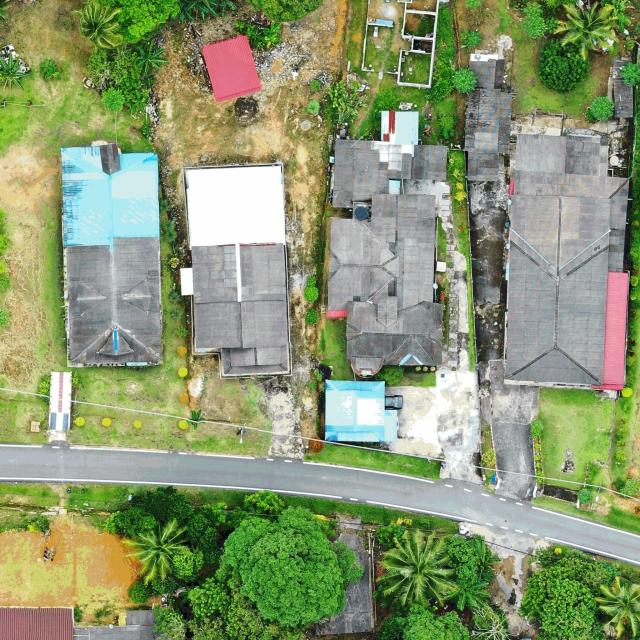0: (375, 528, 455, 610), (122, 518, 188, 586), (550, 0, 616, 62), (593, 576, 640, 639), (70, 1, 123, 50)
banana_tree2: (444, 578, 491, 610), (0, 51, 31, 93), (132, 41, 170, 74), (472, 536, 500, 566), (124, 88, 152, 118), (609, 0, 632, 31), (40, 57, 60, 81)
kelapa_sawit: (131, 486, 220, 580), (185, 576, 304, 640), (103, 507, 159, 540)
tree: (220, 504, 363, 630), (520, 548, 595, 640), (374, 603, 473, 640), (540, 38, 590, 92), (86, 46, 142, 94), (473, 604, 518, 640), (244, 489, 284, 517), (521, 1, 548, 38), (586, 95, 616, 123), (452, 66, 478, 94), (374, 364, 406, 386), (458, 26, 483, 52), (619, 58, 640, 85), (303, 275, 321, 303), (186, 408, 206, 429), (481, 448, 499, 466), (303, 308, 321, 326)
